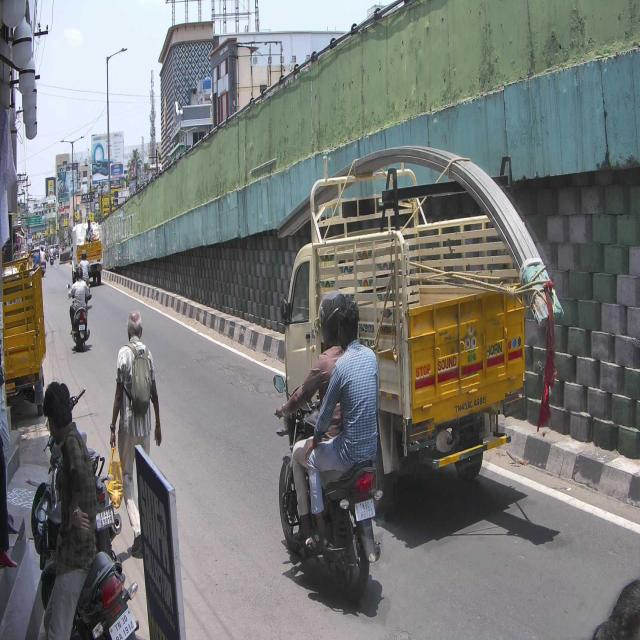double_rider: (272, 287, 386, 603)
